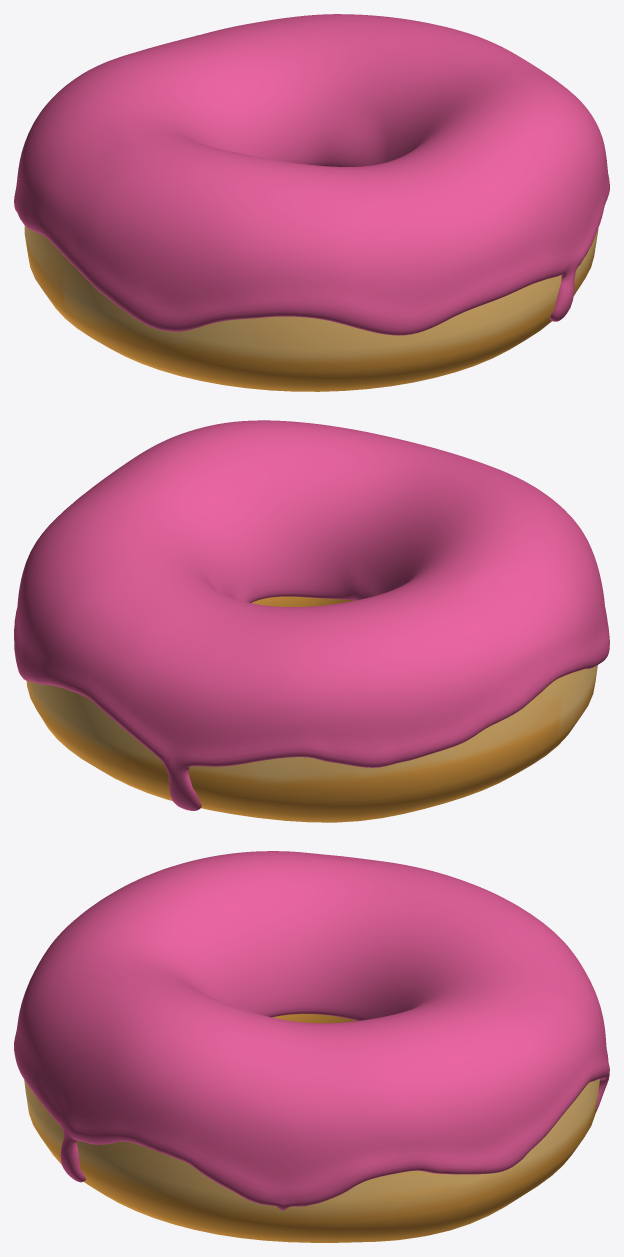
File: Doughnut.glb
3 views of the same model, one above another, from view 1: azimuth 30°, elevation 25°; view 2: azimuth 150°, elevation 25°; view 3: azimuth 270°, elevation 25° (orthographic).
Parts seen in each view (by area): view 1: Icing, Doughnut; view 2: Icing, Doughnut; view 3: Icing, Doughnut.
Part boxes in pixels (x1,y1,x2,y2): Icing: (14, 14, 609, 335); Doughnut: (24, 225, 598, 391); Icing: (14, 420, 609, 810); Doughnut: (26, 596, 597, 822); Icing: (14, 851, 609, 1210); Doughnut: (24, 1014, 599, 1242).
Bounding box in the file's own units: 0.1151 × 0.0469 × 0.115.
Materials: 2 (1 with a texture image).
